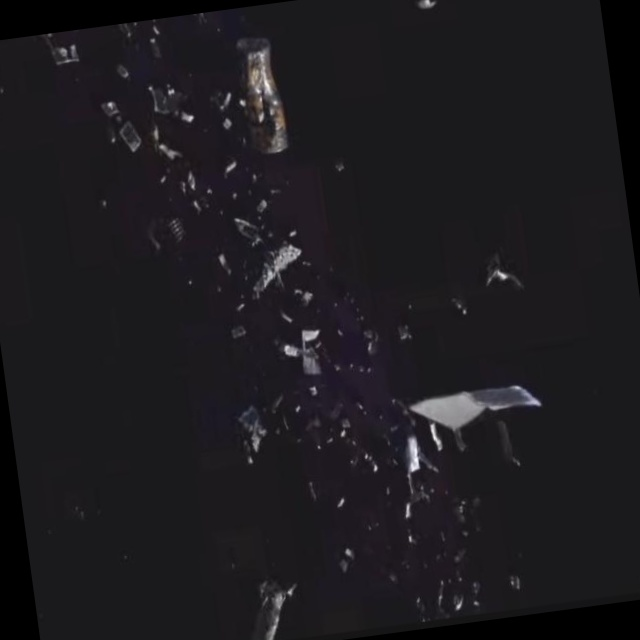large_debris: (213, 194, 336, 349), (398, 350, 560, 467), (225, 27, 309, 184), (222, 392, 294, 478), (228, 560, 303, 640), (92, 83, 157, 174), (272, 319, 341, 393), (477, 244, 531, 310), (19, 29, 88, 80), (156, 202, 193, 255), (628, 548, 640, 596)
